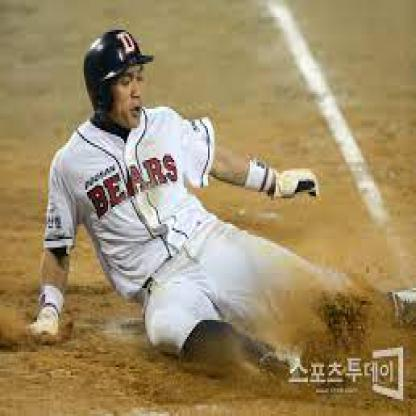Fall_Down: (8, 19, 414, 384)
